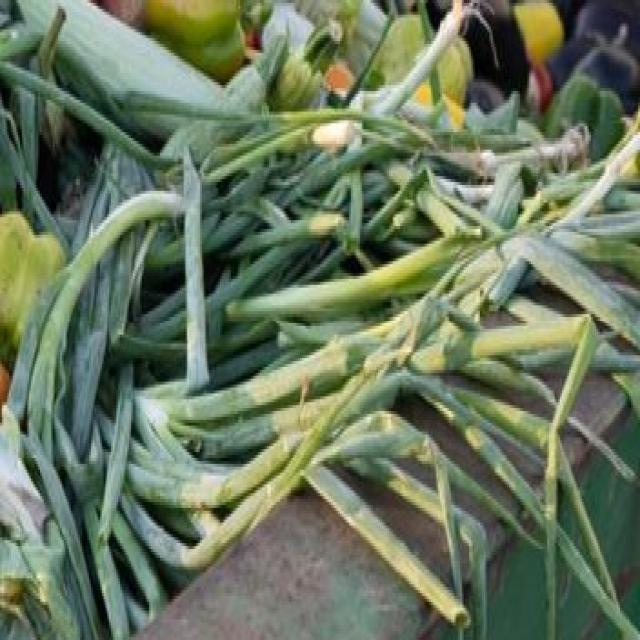food waste: (11, 0, 640, 609)
